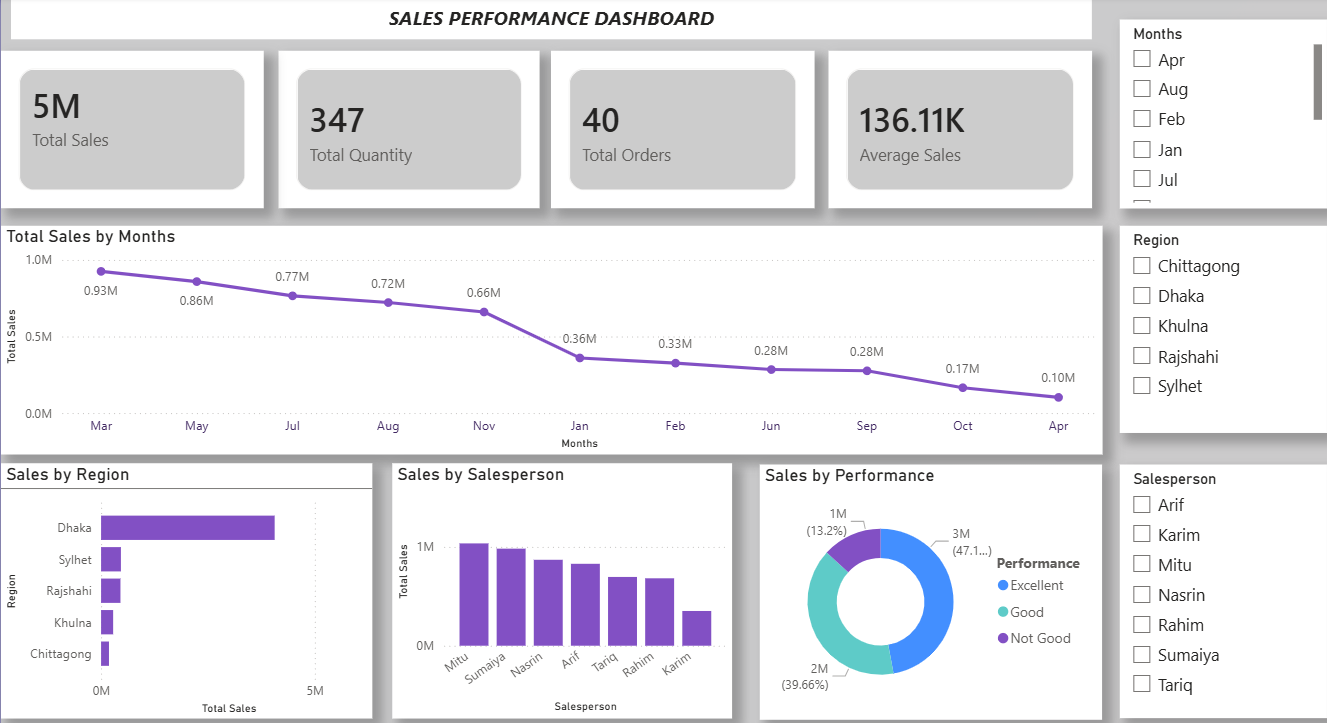

The dashboard page shown, as its layout file describes it:
{"tool":"powerbi","page":{"name":"Page 1","canvas":[1280,720],"ordinal":0},"visuals":[{"type":"cardVisual","fields":{"Data":["Sales.Total Quantity"]},"box":[267.8,51.9,252.1,152],"z":0},{"type":"cardVisual","fields":{"Data":["Sales.Total Sales"]},"box":[0,51.9,253.4,152],"z":1000},{"type":"cardVisual","fields":{"Data":["Sales.Total Orders"]},"box":[530.8,51.9,254.6,152],"z":2000},{"type":"cardVisual","fields":{"Data":["Sales.Average Sales"]},"box":[798.7,51.9,254.6,152],"z":3000},{"type":"lineChart","fields":{"Category":["Sales.Months"],"Y":["Sales.Total Sales"]},"box":[0,220.8,1062.9,220.8],"z":4000},{"type":"clusteredBarChart","title":"Sales by Region","fields":{"Category":["Sales.Region"],"Y":["Sales.Total Sales"]},"box":[0,450,358.3,246.1],"z":5000},{"type":"clusteredColumnChart","title":"Sales by Salesperson","fields":{"Category":["Sales.Salesperson"],"Y":["Sales.Total Sales"]},"box":[377.6,450,328.2,246.1],"z":6000},{"type":"donutChart","title":"Sales by Performance","fields":{"Category":["Sales.Performance"],"Y":["Sales.Total Sales"]},"box":[732.3,451.2,330.6,246.1],"z":7000},{"type":"slicer","fields":{"Values":["Sales.Months"]},"box":[1079.8,21.7,200.3,182.2],"z":8000},{"type":"slicer","fields":{"Values":["Sales.Region"]},"box":[1079.8,220.8,200.3,200.3],"z":9000},{"type":"slicer","fields":{"Values":["Sales.Salesperson"]},"box":[1079.8,451.2,200.3,244.9],"z":10000},{"type":"textbox","box":[9.7,2.4,1043.6,38.6],"z":11000}]}

Visuals, with their boxes in screenshot pixels (x1, y1, x2, y2):
cardVisual - Sales.Total Quantity: BBox(282, 50, 540, 206)
cardVisual - Sales.Total Sales: BBox(7, 50, 267, 206)
cardVisual - Sales.Total Orders: BBox(551, 50, 812, 206)
cardVisual - Sales.Average Sales: BBox(826, 50, 1087, 206)
lineChart - Sales.Months x Sales.Total Sales: BBox(7, 223, 1097, 449)
"Sales by Region" clusteredBarChart: BBox(7, 458, 374, 710)
"Sales by Salesperson" clusteredColumnChart: BBox(394, 458, 731, 710)
"Sales by Performance" donutChart: BBox(758, 459, 1097, 712)
slicer - Sales.Months: BBox(1114, 19, 1320, 206)
slicer - Sales.Region: BBox(1114, 223, 1320, 428)
slicer - Sales.Salesperson: BBox(1114, 459, 1320, 710)
textbox: BBox(17, 0, 1087, 39)
